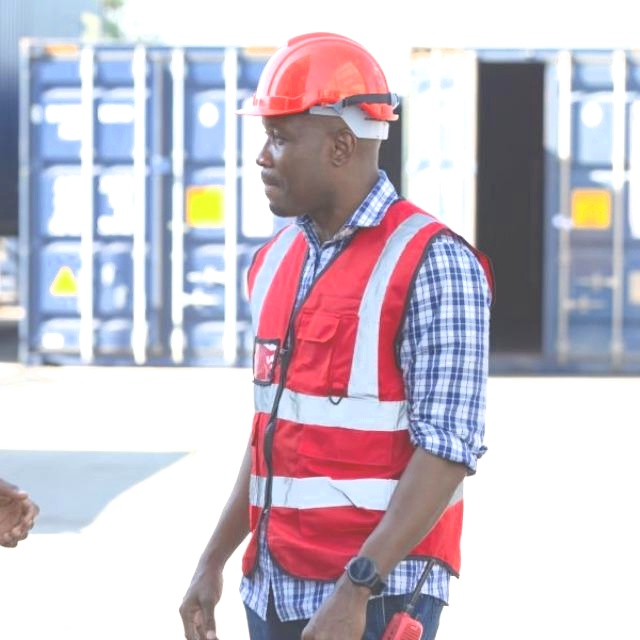Con_Casco: (236, 30, 398, 212)
Con_Chaleco: (232, 208, 485, 580)
